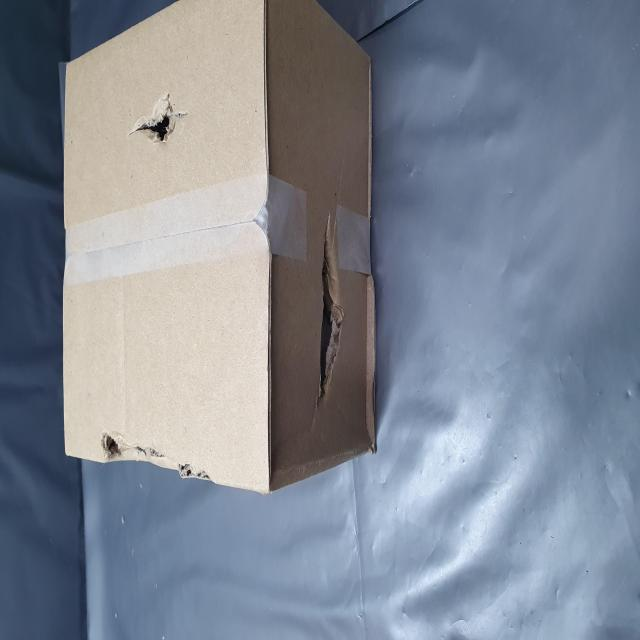damaged: (131, 550, 242, 612), (94, 170, 115, 362), (272, 231, 302, 335)
